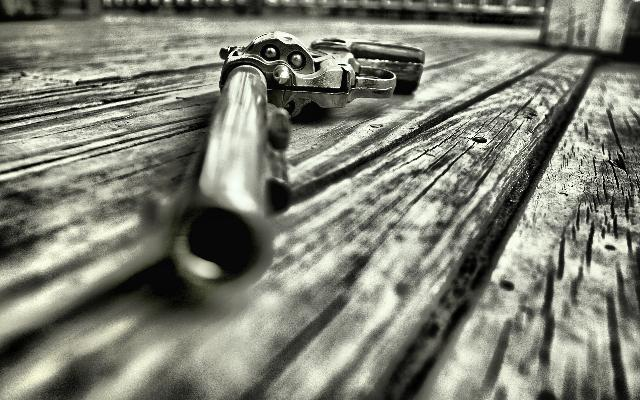pistol: (154, 31, 426, 293)
